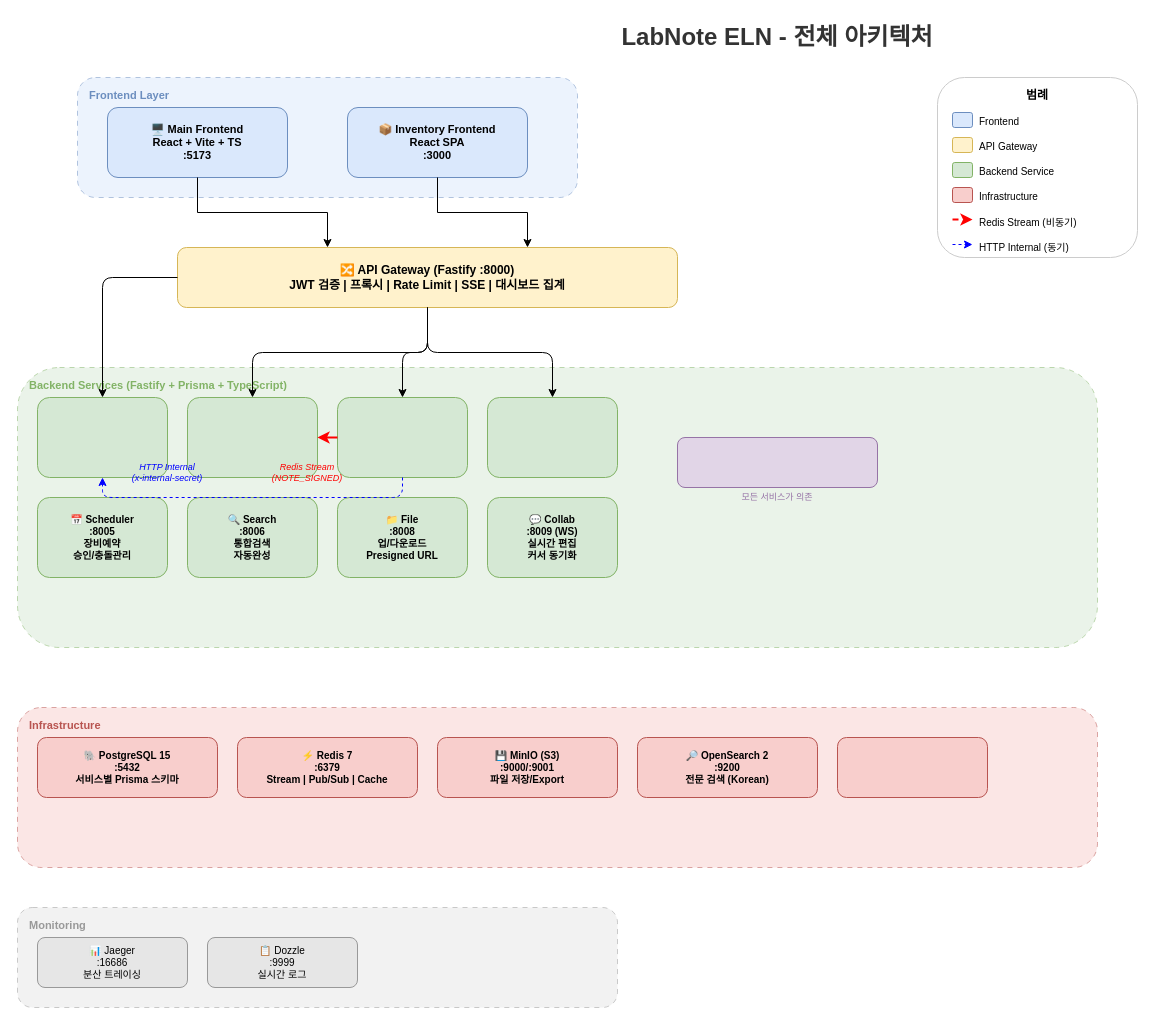
The diagram is 1155 pixels wide and 1025 high, and some of its shapes have lost their labels. The box of each missing label's shape, as (x1, y1, x2, y2) in pixels:
✍️ Signature :8003 전자서명/감사 PDF/ZIP 변환: (336, 396, 468, 478)
📝 ELN :8002 노트/프로토콜 상태관리/버전: (186, 396, 318, 478)
📦 @lab/shared 에러, 로거, 권한, 검증, 미들웨어: (676, 436, 878, 488)
🔐 Auth :8001 JWT, RBAC 조직/팀/사용자: (36, 396, 168, 478)
🔑 Keycloak 24 :8080 SSO (선택): (836, 736, 988, 798)
🧪 Inventory :8004 시약/장비 바코드/수량: (486, 396, 618, 478)
